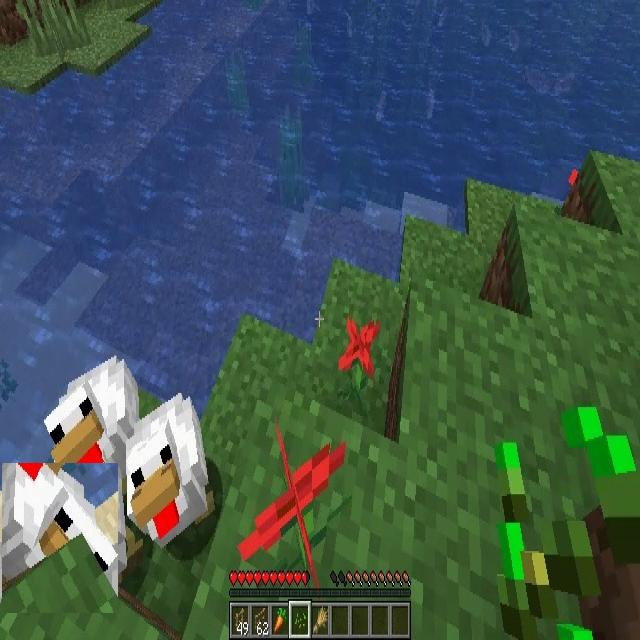duck: (37, 357, 138, 575), (2, 464, 118, 614), (127, 389, 210, 546)
